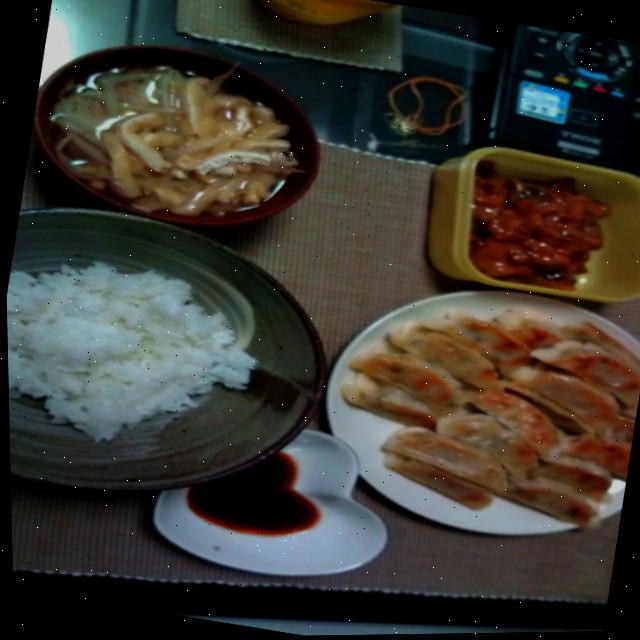带馅早点: (309, 250, 640, 559)
米饭主食: (3, 185, 360, 533)
